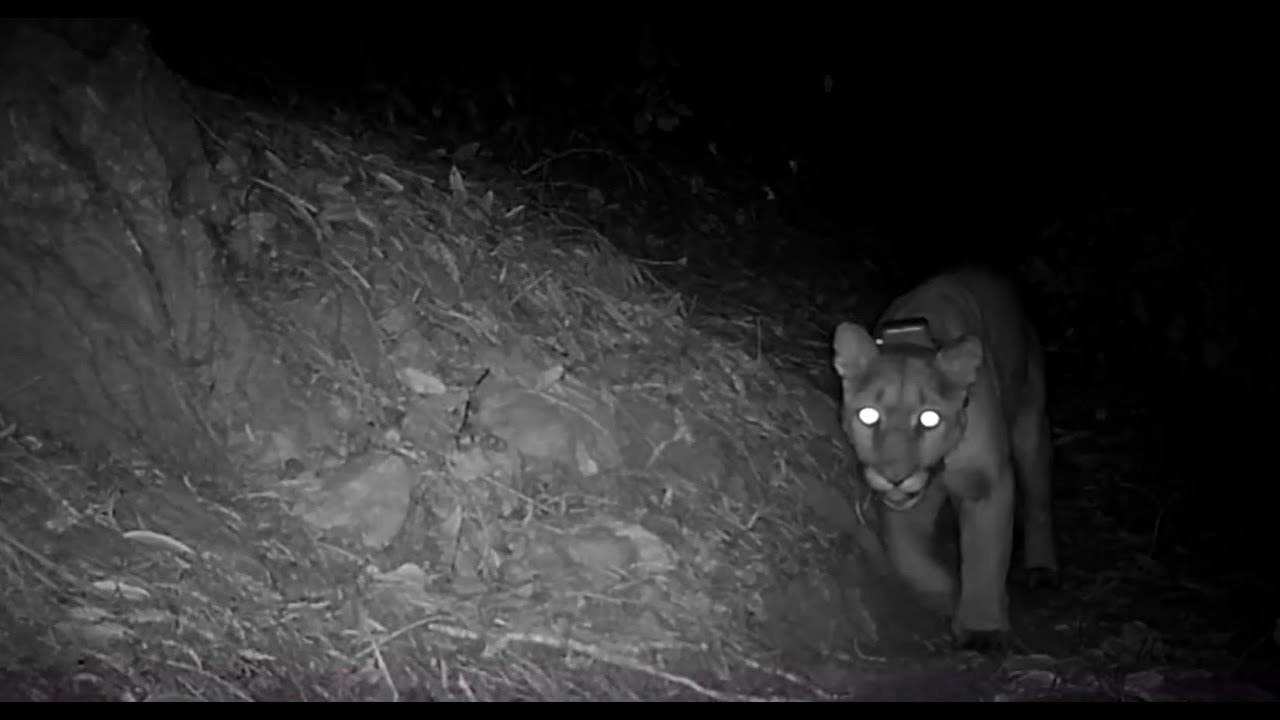mountain lion: (809, 250, 1093, 644)
